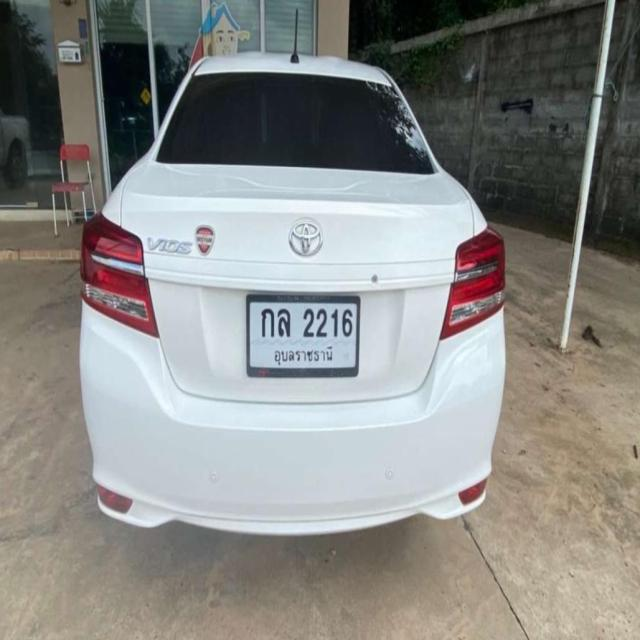license_plate: (244, 292, 362, 378)
